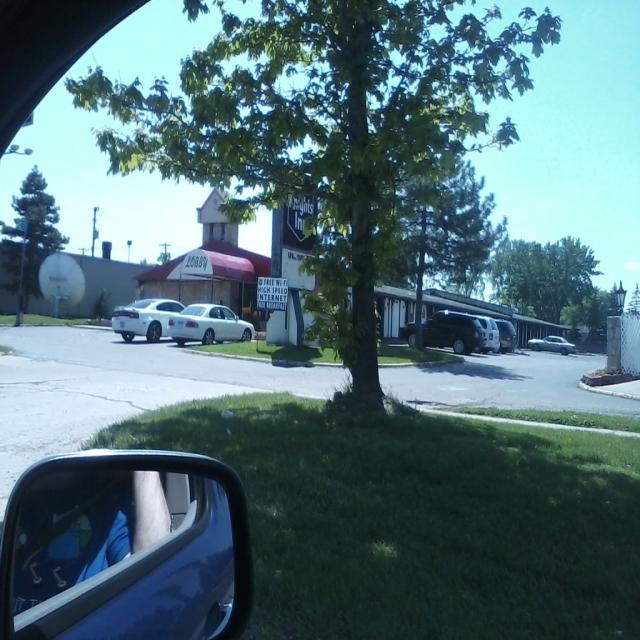car: (399, 303, 484, 353), (166, 299, 254, 343), (527, 329, 577, 352)
